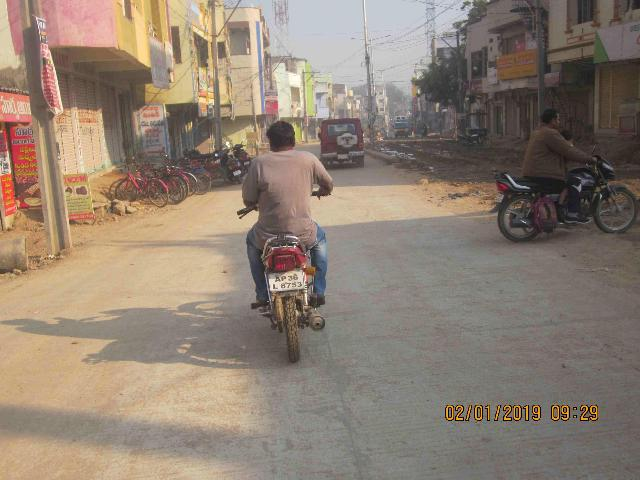motor: (239, 189, 334, 366), (492, 148, 640, 243)
non-helm: (268, 122, 298, 155), (542, 109, 562, 130), (561, 130, 576, 147)
